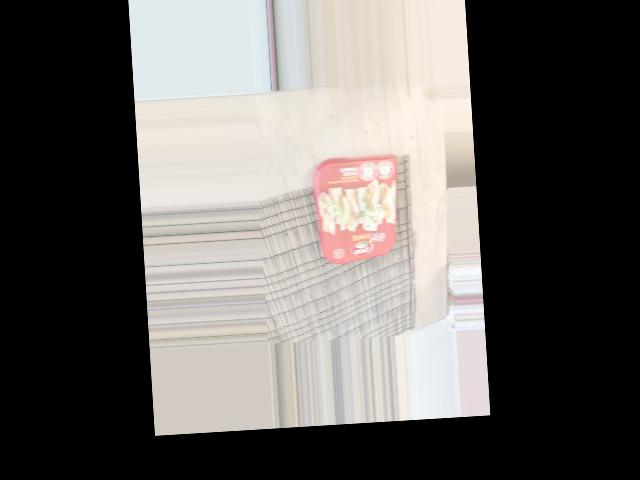cheese: (316, 145, 401, 265)
